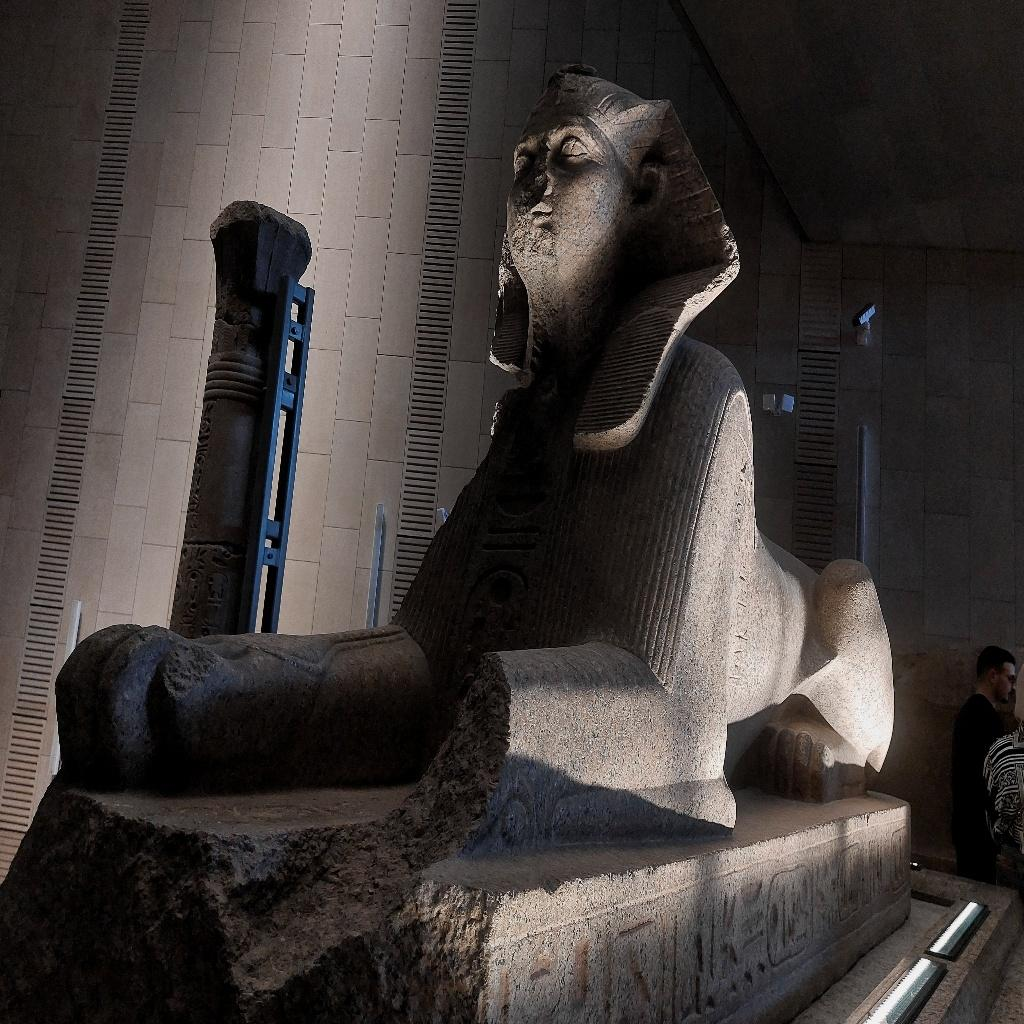Sphinx of Kings Ramesses ll - Merenptah: (50, 68, 901, 862)
